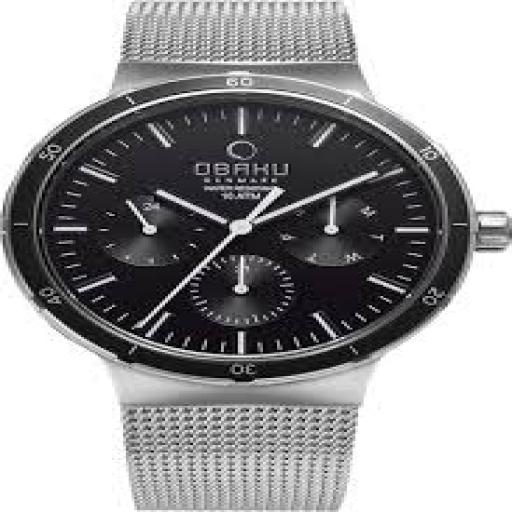KolSaati: (14, 3, 506, 503)
